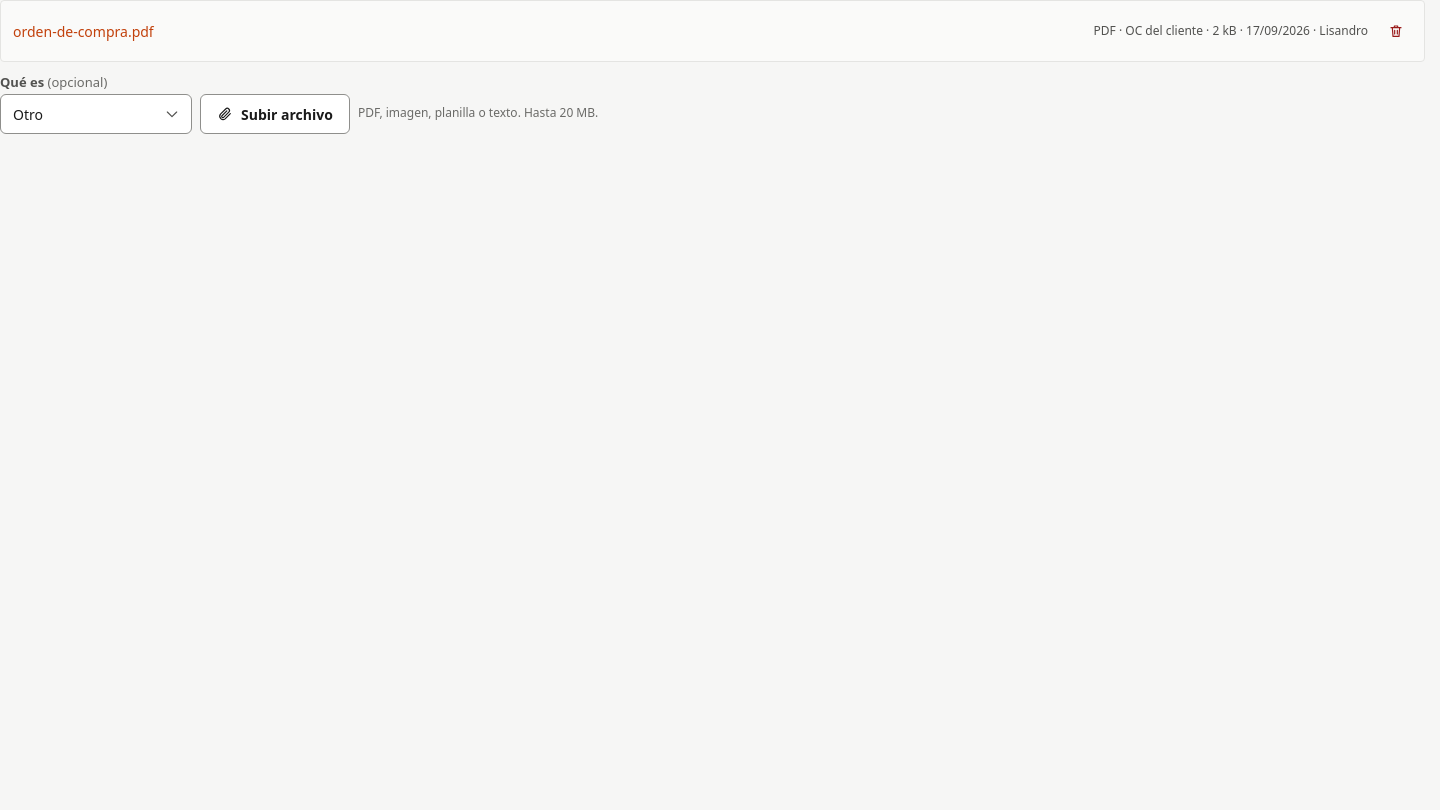
Scenario: Adjuntos · borrar › si el archivo queda en el almacenamiento, se avisa
The image size is (1440, 810).
Click the button named "Eliminar orden-de-compra.pdf" at {"x": 1396, "y": 31}, box [1380, 15, 1412, 47]
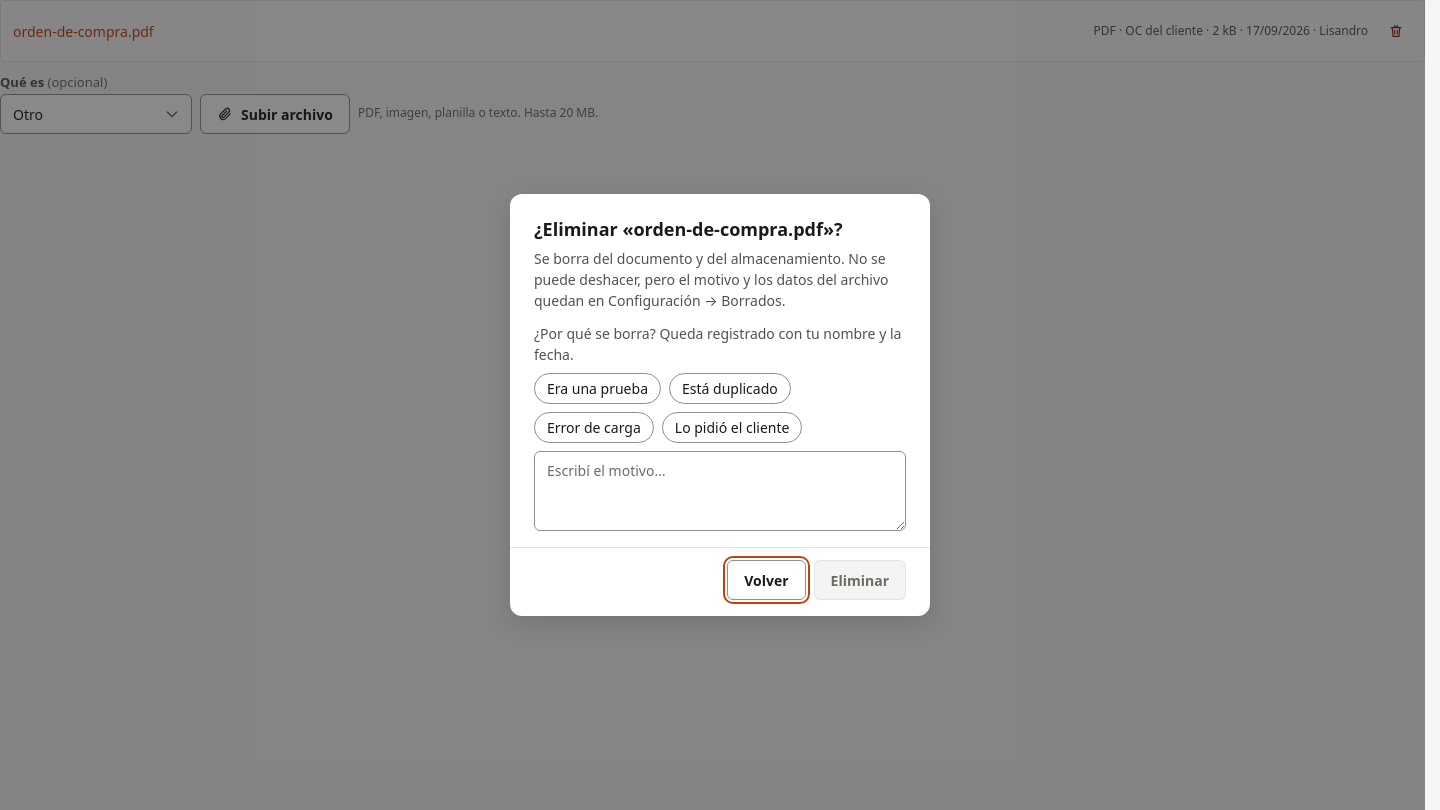
Click the button "Era una prueba" at {"x": 598, "y": 389}, box [534, 373, 661, 404]
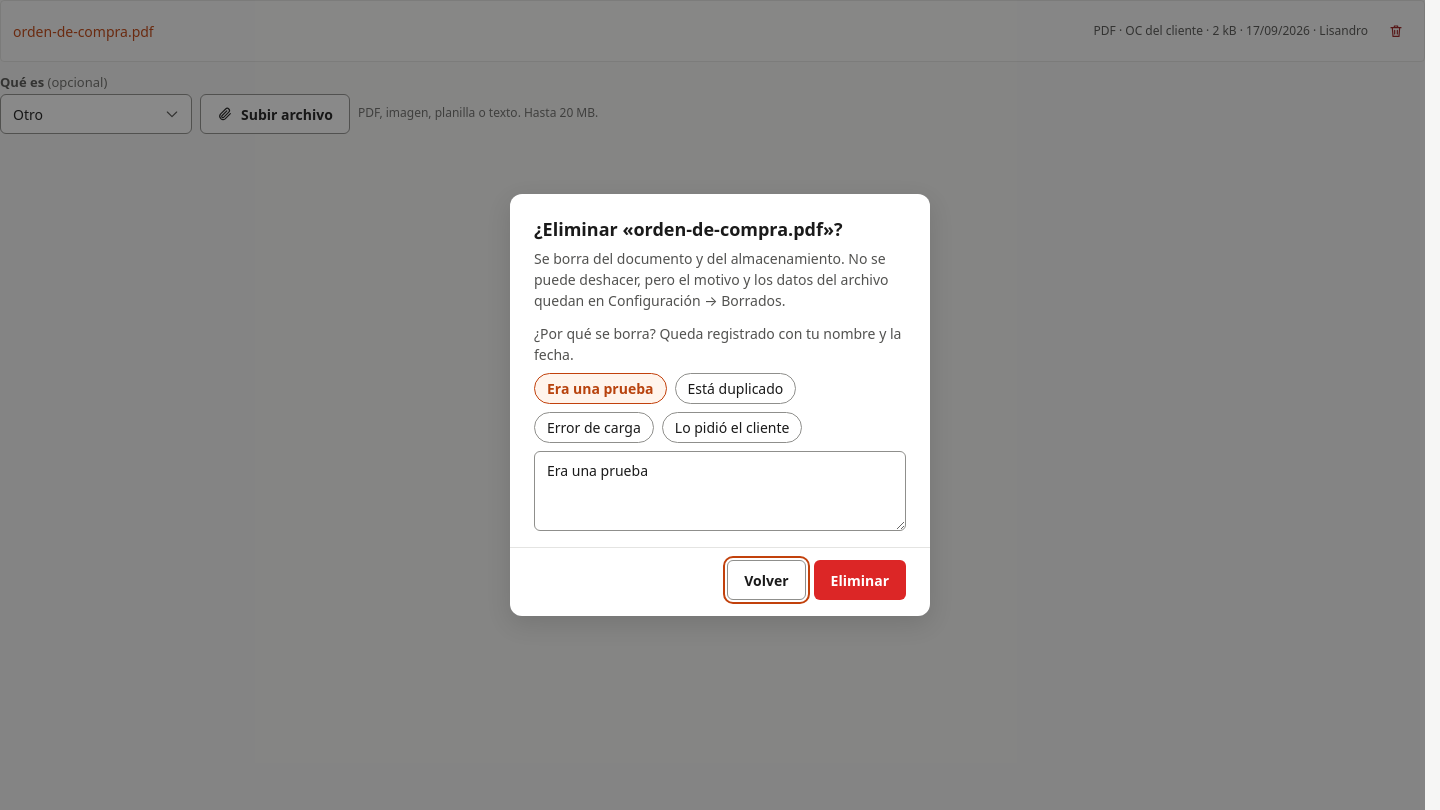
Click the button "Eliminar" at {"x": 860, "y": 580}, box [814, 560, 906, 600]
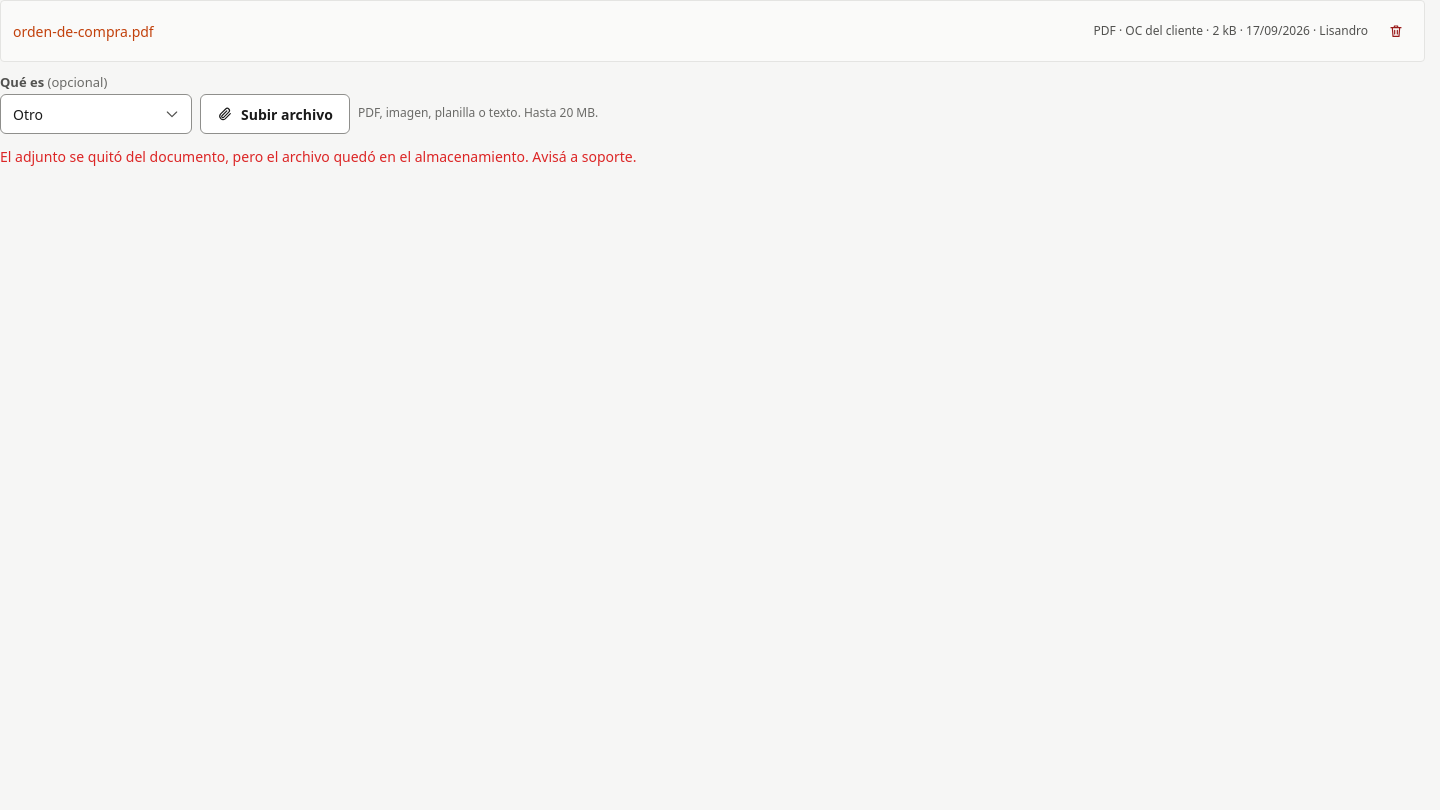
Expected: the message shows "quedó en el almacenamiento", [0, 147, 636, 166]
